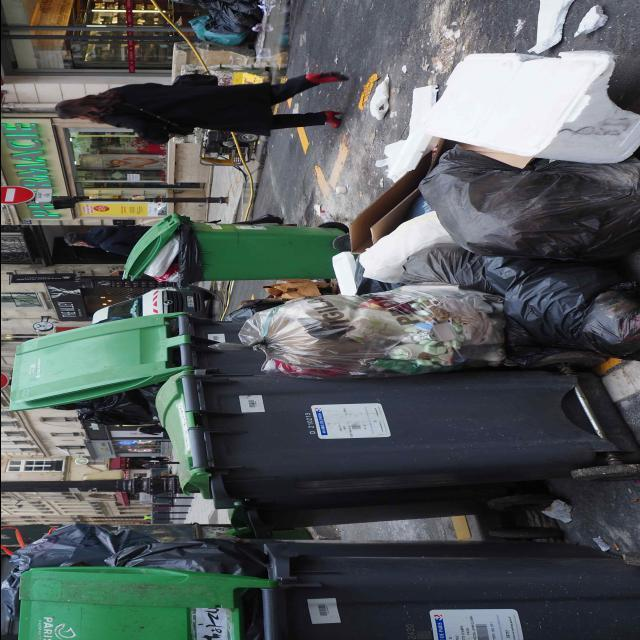Trashbag: (414, 147, 640, 263), (0, 526, 248, 622), (501, 278, 640, 360), (396, 252, 521, 296)
